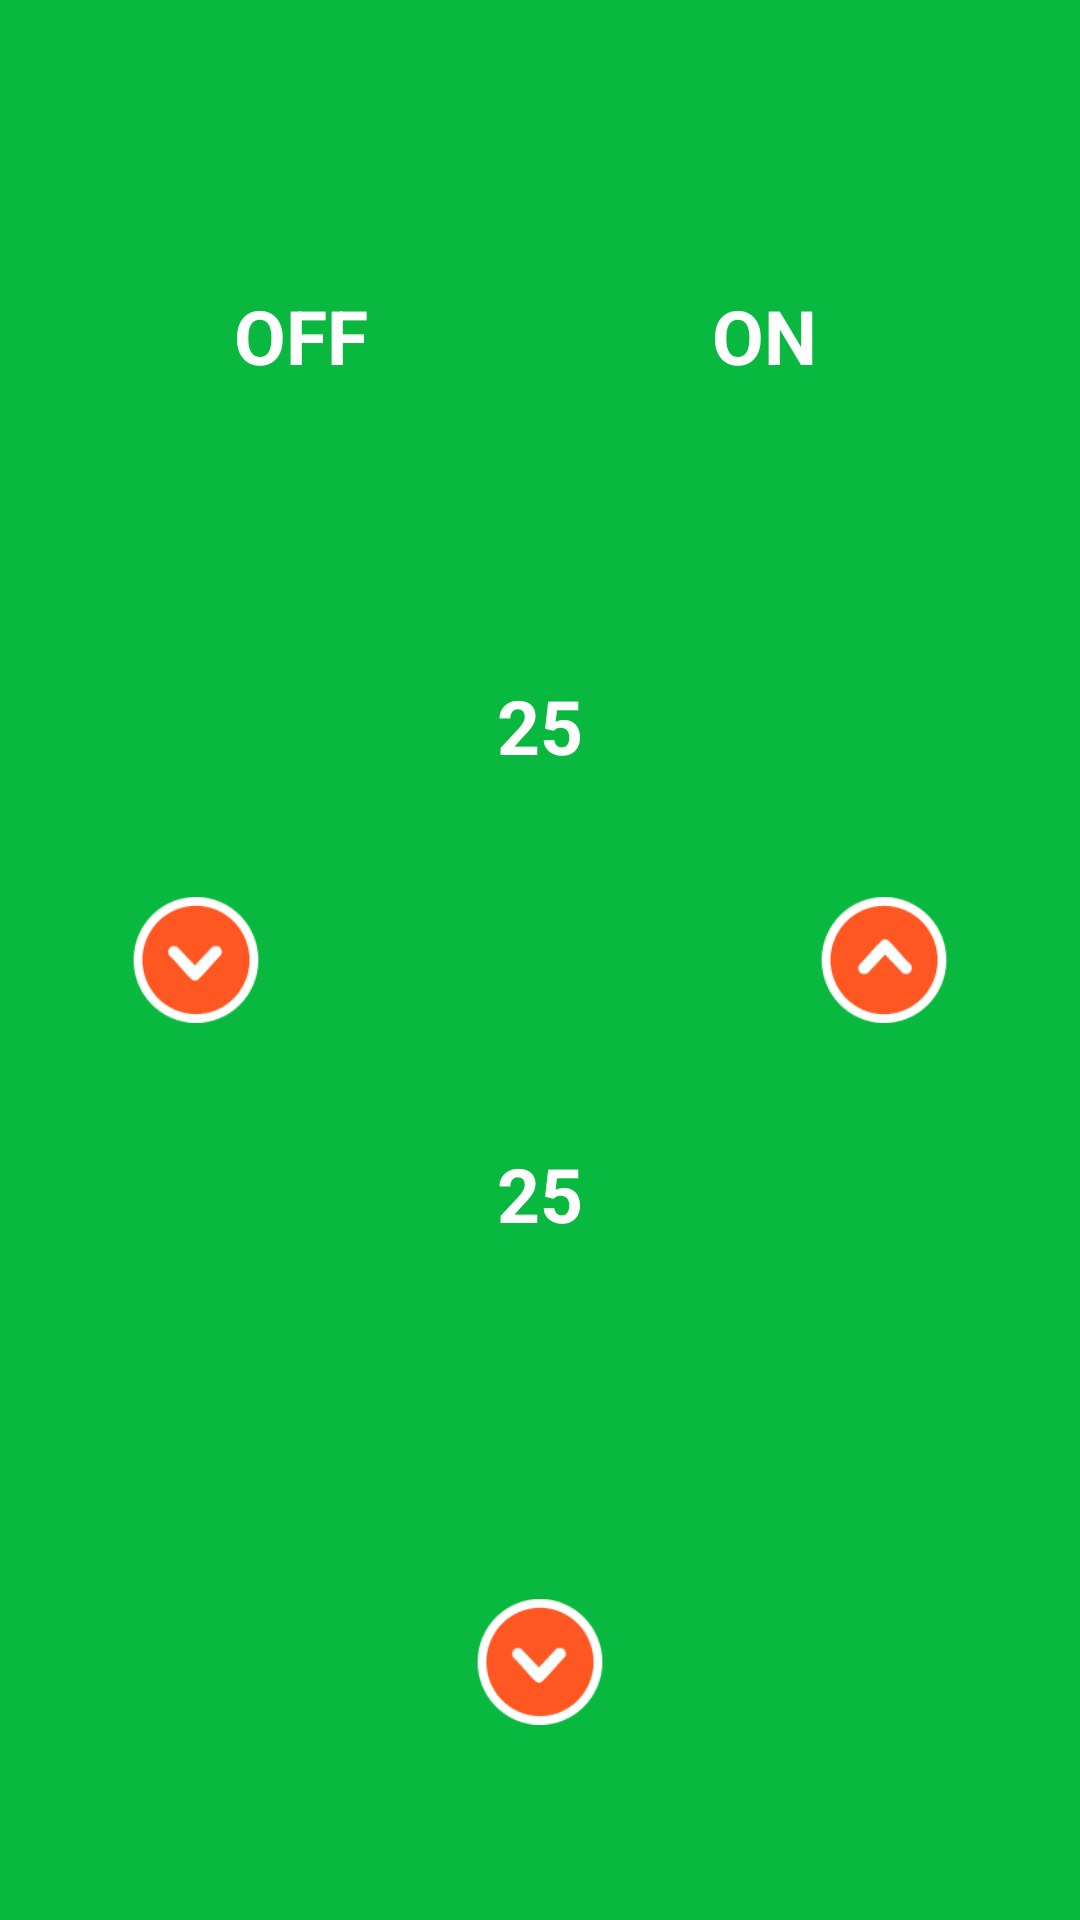

Named icons in this screenshot (1080px×1920px) and their bounding boxes, (x1, y1, x2, y2):
arrow: (821, 897, 947, 1023)
round: (133, 897, 259, 1023), (477, 1599, 603, 1725)
